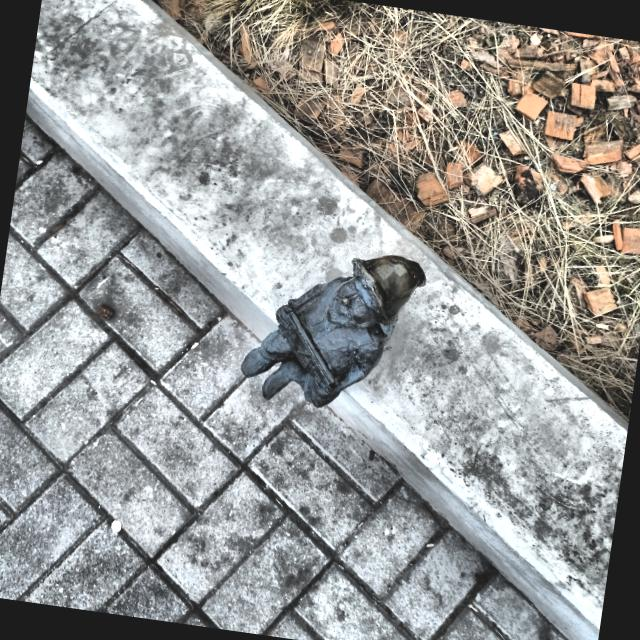Krasnal_Millenniowski: (241, 258, 425, 408)
